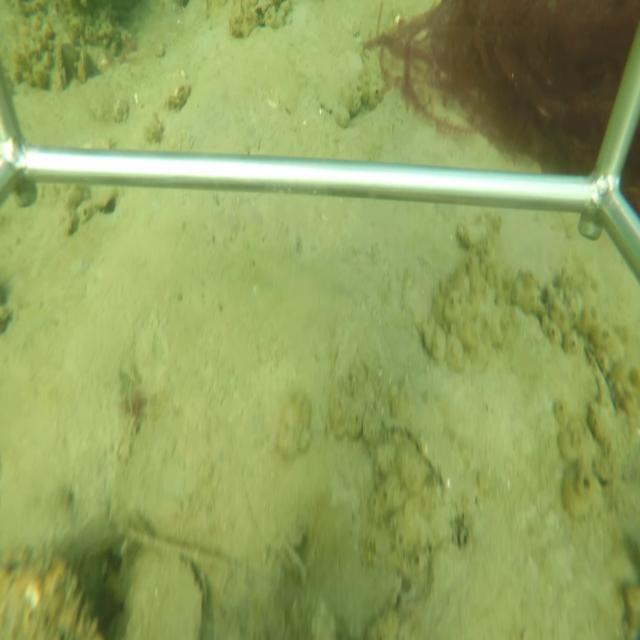Oyster-Closed: (117, 540, 211, 638)
